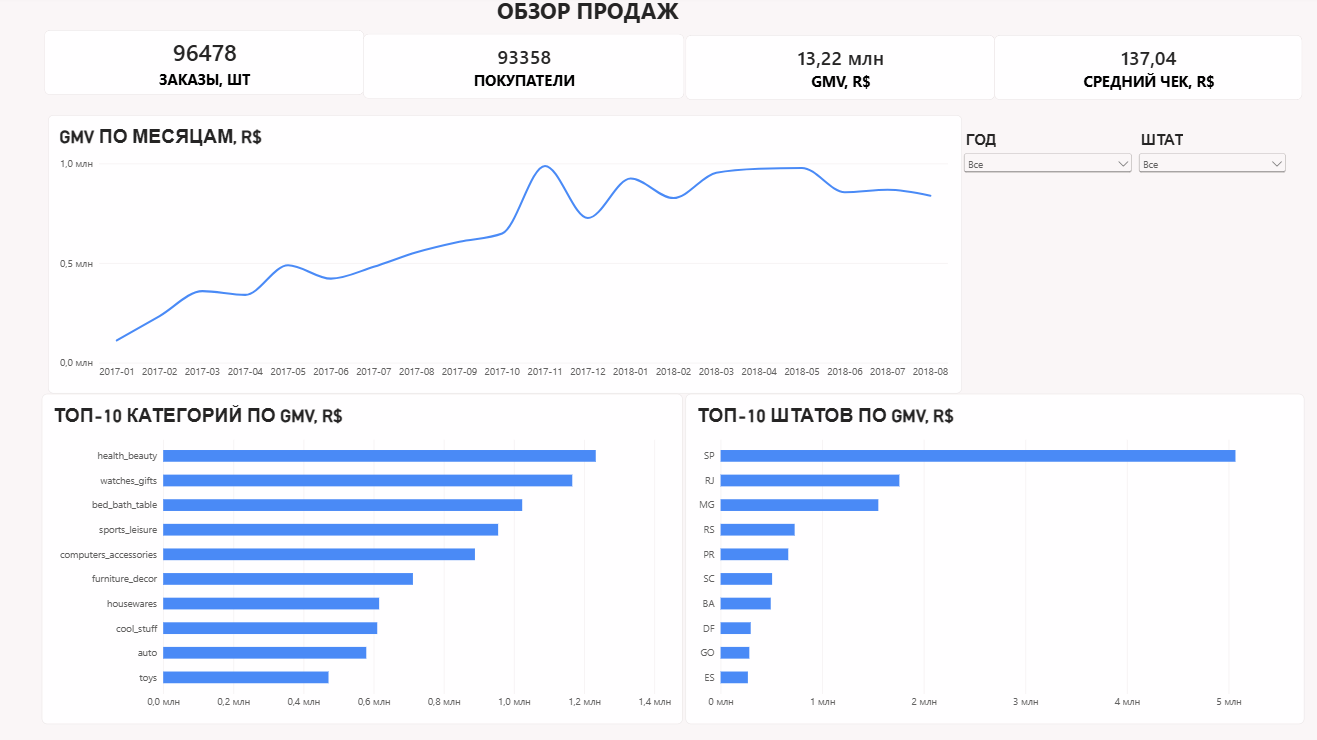

This screenshot's page, from the dashboard's own definition file:
{"tool":"powerbi","page":{"name":"Обзор продаж","canvas":[1920,1080],"ordinal":0},"visuals":[{"type":"cardVisual","fields":{"Data":["Orders.Orders Count"]},"box":[66.4,51.1,463.1,94.7],"z":0},{"type":"cardVisual","fields":{"Data":["Orders.Customers Count"]},"box":[528.5,56.2,465.2,94.7],"z":1000},{"type":"cardVisual","fields":{"Data":["Orders.Total GMV"]},"box":[995.7,58.7,448.7,94.7],"z":2000},{"type":"cardVisual","fields":{"Data":["Orders.Average Order Value"]},"box":[1442.6,58.7,446.7,94.7],"z":3000},{"type":"lineChart","title":"GMV ПО МЕСЯЦАМ, R$","fields":{"Y":["Orders.Total GMV"],"Category":["Calendar.Year Month"]},"box":[71.5,173.6,1323.5,403.4],"z":4000},{"type":"barChart","title":"ТОП-10 КАТЕГОРИЙ ПО GMV, R$","fields":{"Category":["Order Items.category"],"Y":["Orders.Total GMV"]},"box":[63.8,577,928,478],"z":5000},{"type":"barChart","title":"ТОП-10 ШТАТОВ ПО GMV, R$","fields":{"Y":["Orders.Total GMV"],"Category":["Orders.customer_state"]},"box":[995.7,577,896,478],"z":6000},{"type":"textbox","box":[704,0,300,52],"z":7000},{"type":"slicer","fields":{"Values":["Calendar.Year"]},"box":[1394,196.6,253.2,100.9],"z":8000},{"type":"slicer","fields":{"Values":["Orders.customer_state"]},"box":[1646.8,196.6,222.3,115.3],"z":9000}]}

Visuals, with their boxes in screenshot pixels (x1, y1, x2, y2), scaled from the page's 1920x1080 canvas onto the 1317x740 screenshot:
cardVisual - Orders.Orders Count: {"left": 46, "top": 35, "right": 363, "bottom": 100}
cardVisual - Orders.Customers Count: {"left": 363, "top": 39, "right": 682, "bottom": 103}
cardVisual - Orders.Total GMV: {"left": 683, "top": 40, "right": 991, "bottom": 105}
cardVisual - Orders.Average Order Value: {"left": 990, "top": 40, "right": 1296, "bottom": 105}
"GMV ПО МЕСЯЦАМ, R$" lineChart: {"left": 49, "top": 119, "right": 957, "bottom": 395}
"ТОП-10 КАТЕГОРИЙ ПО GMV, R$" barChart: {"left": 44, "top": 395, "right": 680, "bottom": 723}
"ТОП-10 ШТАТОВ ПО GMV, R$" barChart: {"left": 683, "top": 395, "right": 1298, "bottom": 723}
textbox: {"left": 483, "top": 0, "right": 689, "bottom": 36}
slicer - Calendar.Year: {"left": 956, "top": 135, "right": 1130, "bottom": 204}
slicer - Orders.customer_state: {"left": 1130, "top": 135, "right": 1282, "bottom": 214}
